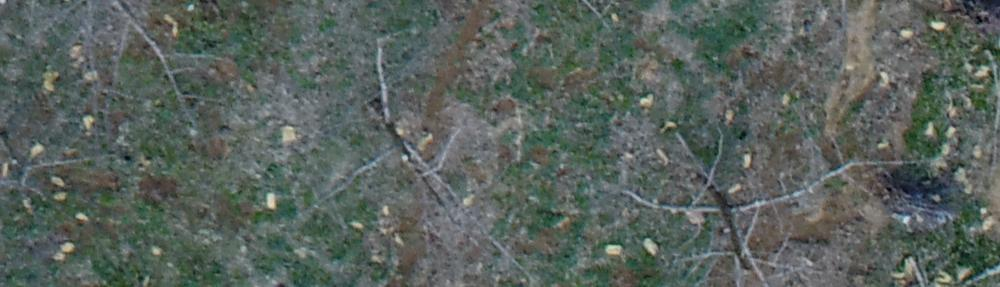apple: (613, 121, 887, 277), (10, 10, 228, 124)
